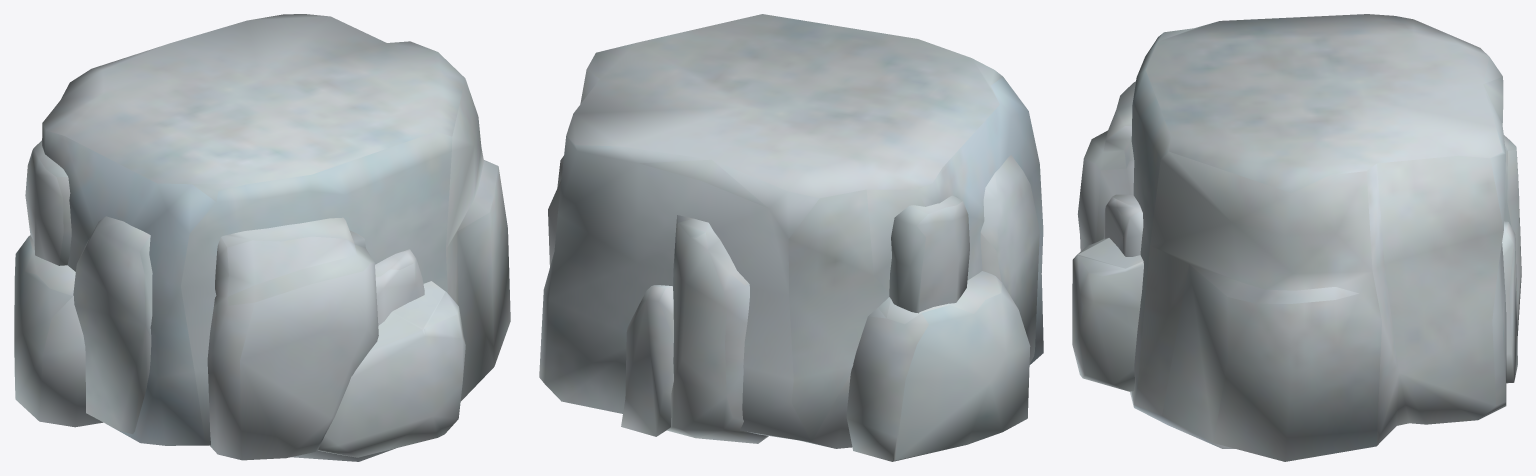
Rendered from P_RockSpire_Shelf05.obj.
The picture shows the model from 3 angles, left to right: view 1: azimuth 30°, elevation 25°; view 2: azimuth 150°, elevation 25°; view 3: azimuth 270°, elevation 25°; orthographic projection. The views are drawn at different scales.
Bounding box in the file's own units: 44.1 × 27.11 × 37.65.
